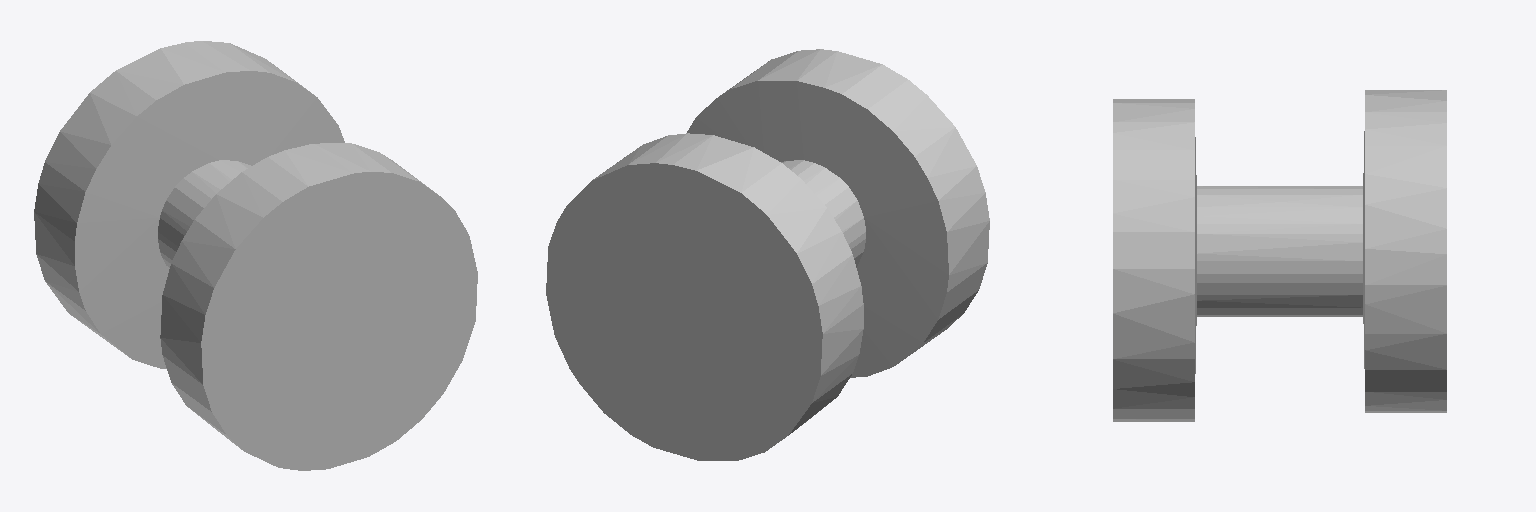
File: knob-collision.obj
3 views of the same model, side by side, from view 1: azimuth 30°, elevation 25°; view 2: azimuth 150°, elevation 25°; view 3: azimuth 270°, elevation 25° (orthographic).
Parts seen in each view (by area): view 1: convex_2, convex_0, convex_1; view 2: convex_0, convex_2, convex_1; view 3: convex_0, convex_2, convex_1.
Part boxes in pixels (left/top/right/bottom): convex_2: left=160, top=143, right=477, bottom=470; convex_0: left=34, top=41, right=344, bottom=368; convex_1: left=158, top=160, right=250, bottom=268; convex_0: left=546, top=133, right=863, bottom=460; convex_2: left=687, top=49, right=989, bottom=377; convex_1: left=781, top=160, right=865, bottom=266; convex_0: left=1363, top=90, right=1446, bottom=412; convex_2: left=1113, top=99, right=1196, bottom=421; convex_1: left=1197, top=186, right=1362, bottom=316.
Size of the model in its own units: 0.2015 by 0.2077 by 0.2108.